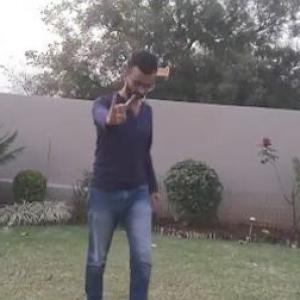takeoff-hand: (101, 84, 135, 128)
